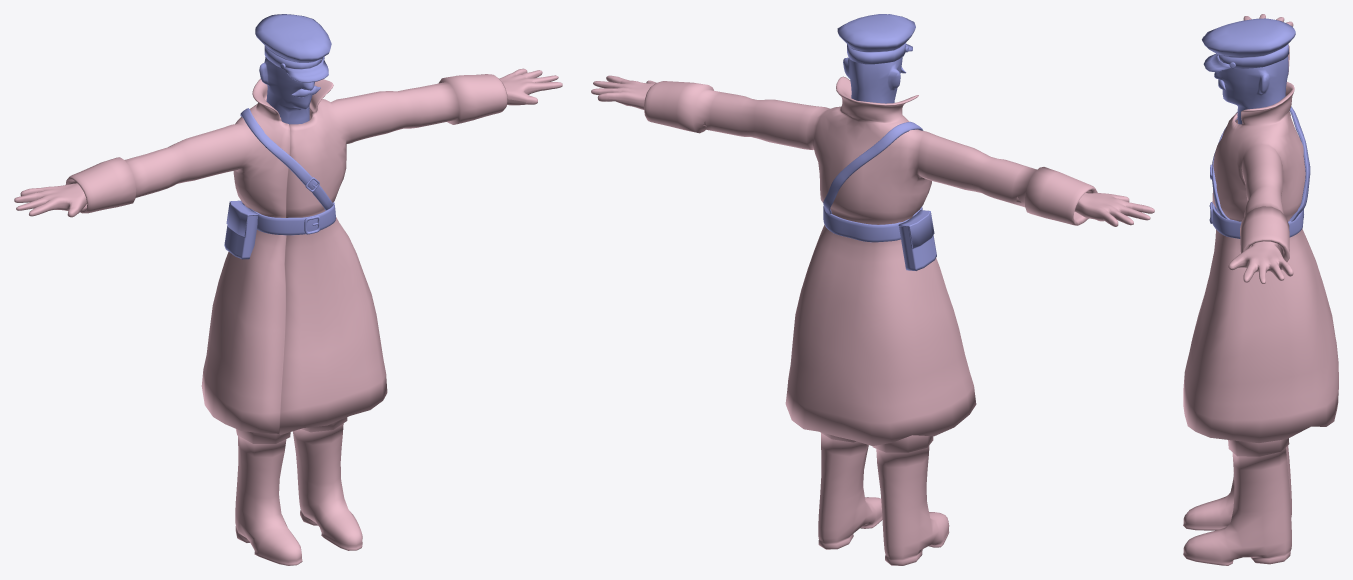
File: man2.fbx
3 renders of one model, left to right at view 1: azimuth 30°, elevation 25°; view 2: azimuth 150°, elevation 25°; view 3: azimuth 270°, elevation 25°, orthographic. The views are drawn at different scales.
Visible parts, largest first — view 1: Cube.001, Cube.005, Circle.003, Cube.006, Cube, Cube.010, Circle, Circle.001; view 2: Cube.001, Cube.005, Cube.006, Circle.003, Cube, Cube.010, Circle, Circle.001; view 3: Cube.001, Cube.005, Circle.003, Cube, Cube.006, Circle.001, Circle.
Boxes of the visible parts, x1,y1,x2,y2 form: Cube.001: [65, 74, 507, 435]; Cube.005: [235, 417, 362, 565]; Circle.003: [255, 14, 331, 82]; Cube.006: [14, 68, 562, 217]; Cube: [259, 57, 320, 124]; Cube.010: [224, 200, 258, 259]; Circle: [242, 202, 335, 235]; Circle.001: [240, 108, 333, 210]; Cube.001: [644, 76, 1097, 446]; Cube.005: [818, 432, 949, 565]; Cube.006: [591, 75, 1154, 226]; Circle.003: [837, 14, 915, 64]; Cube: [843, 57, 906, 103]; Cube.010: [898, 210, 936, 270]; Circle: [823, 206, 922, 242]; Circle.001: [823, 121, 923, 213]; Cube.001: [1183, 45, 1338, 442]; Cube.005: [1183, 438, 1291, 565]; Circle.003: [1202, 18, 1295, 72]; Cube: [1214, 56, 1288, 124]; Cube.006: [1228, 14, 1293, 283]; Circle.001: [1210, 106, 1310, 221]; Circle: [1209, 202, 1303, 238].
Bounding box in the file's own units: 1393 × 1249 × 342.
